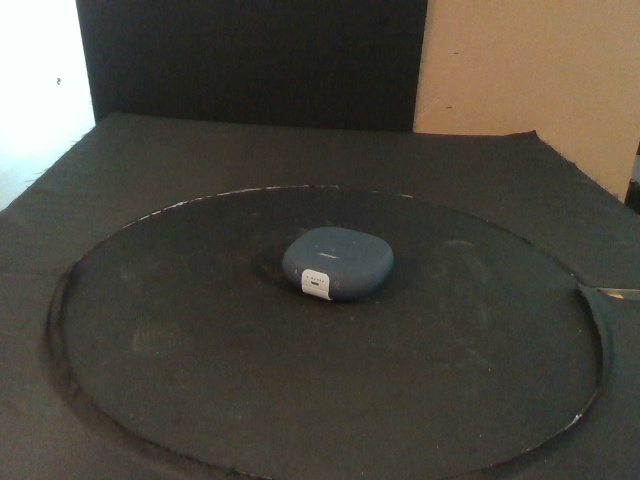speaker: (282, 225, 396, 301)
